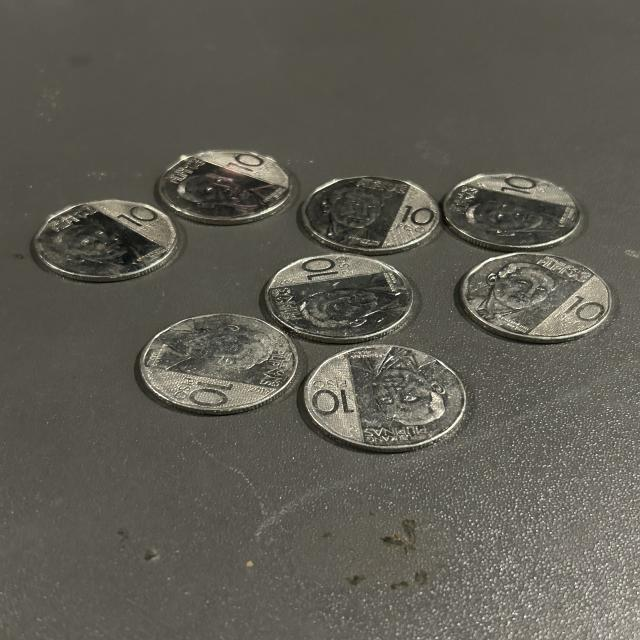10_New_Front: (317, 357, 453, 445), (470, 249, 605, 337), (153, 314, 280, 406), (441, 170, 572, 249), (277, 258, 404, 339), (46, 197, 174, 273), (319, 176, 434, 252), (174, 147, 286, 216)
